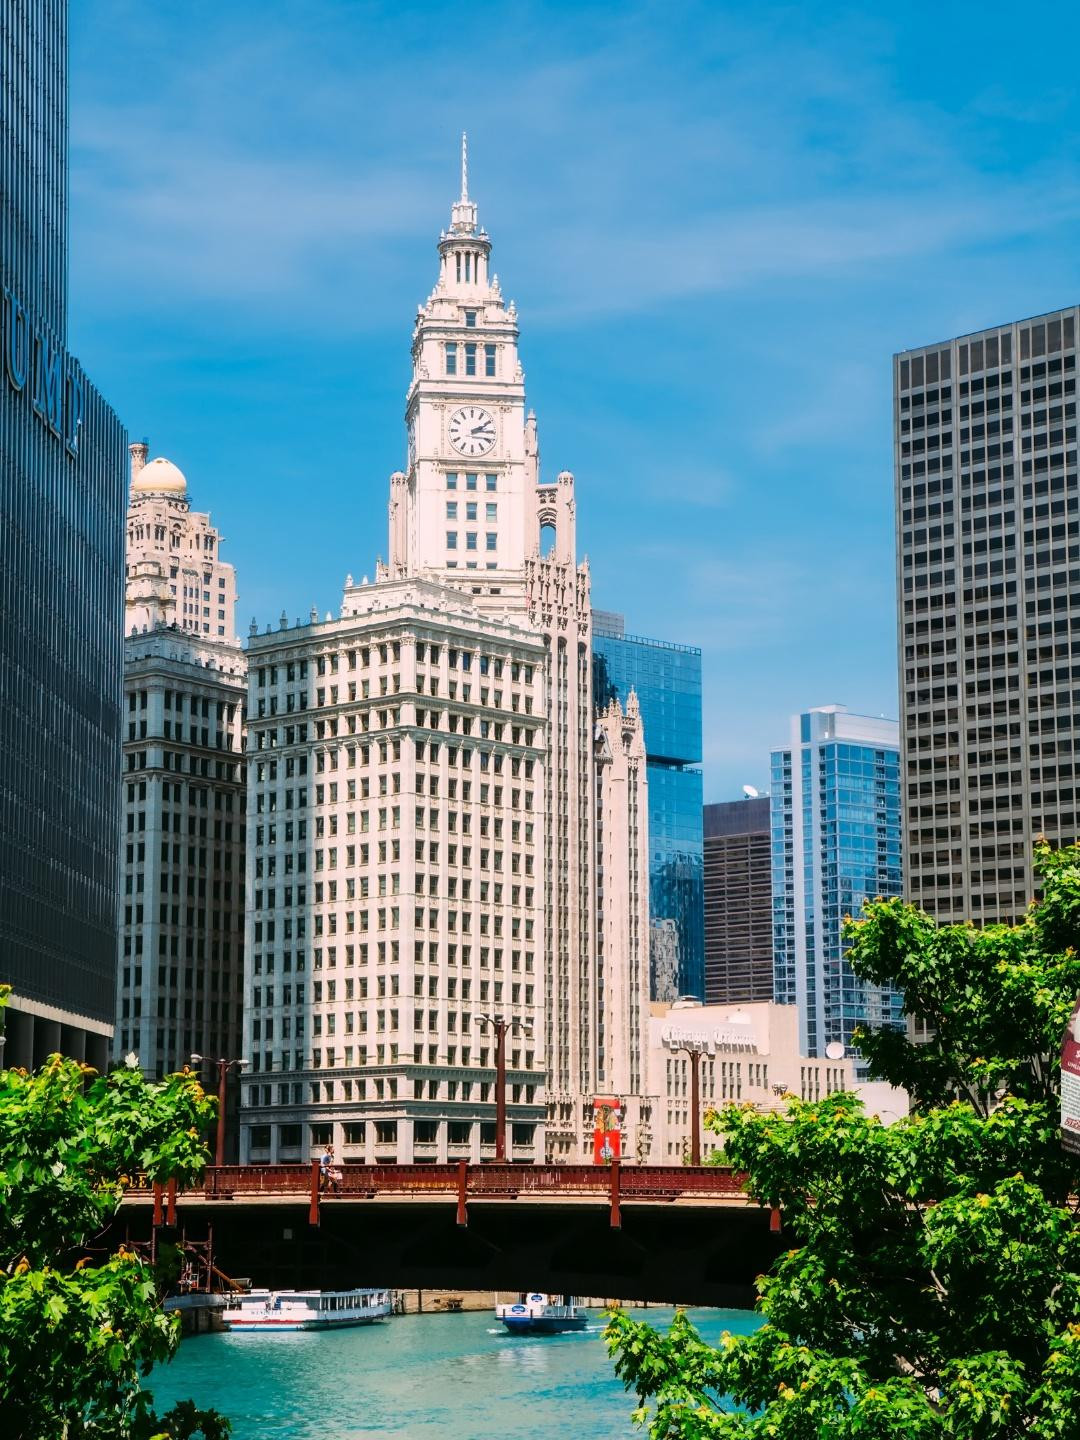paper: (1061, 815, 1080, 1198)
